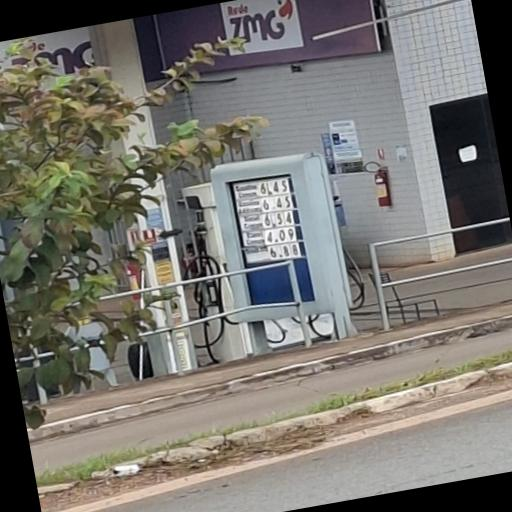S10: (242, 244, 270, 260)
S500: (239, 215, 265, 230)
placa: (226, 175, 307, 266)
preco: (262, 209, 294, 228), (270, 242, 301, 260)
